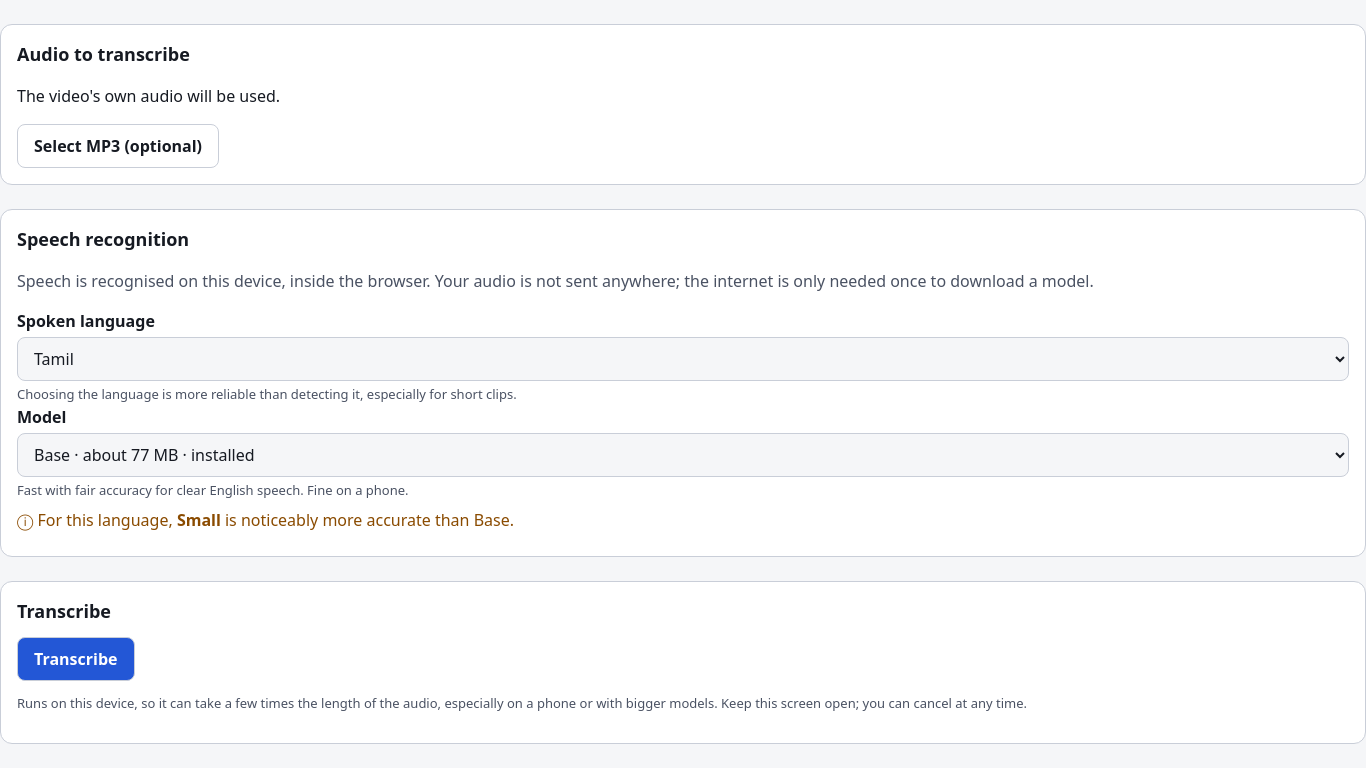
Test case: Speech workflow › shows why a transcription failed and keeps the choices
Select "English" in the dropdown labelled "Spoken language" at (683, 359), box [17,337,1349,381]
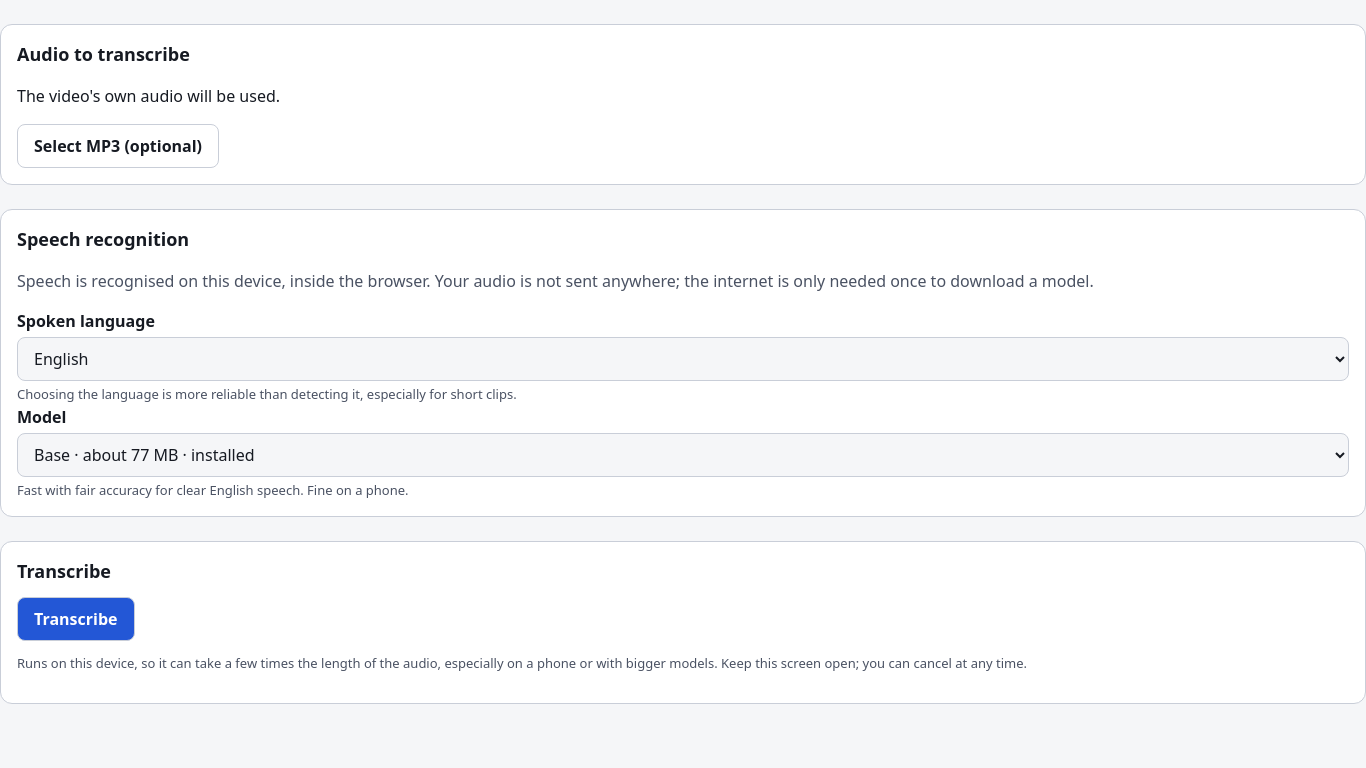
Click the button "Transcribe" at (76, 619), box [17,597,134,641]
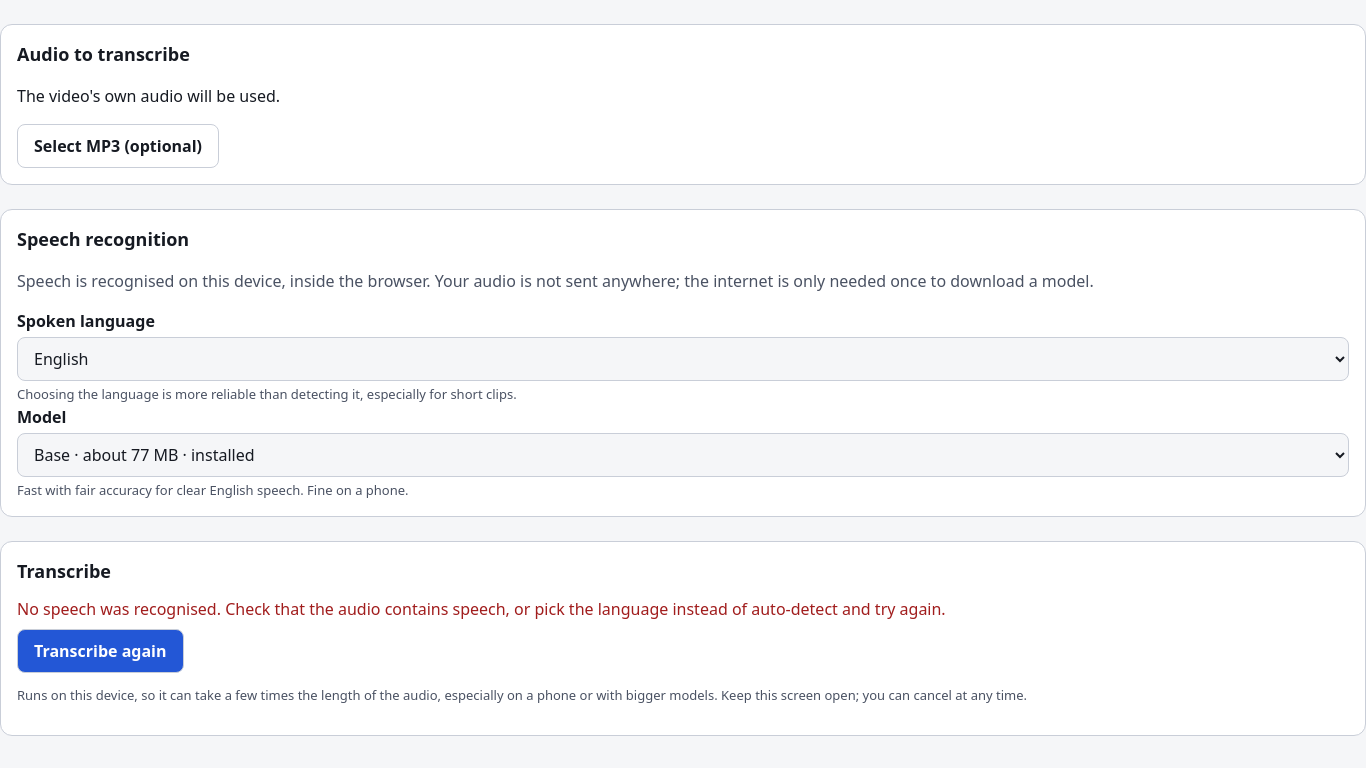
Expected: the button "Transcribe again" is enabled, [17,629,184,673]
Expected: the text "No speech was recognised" is shown, [17,598,946,620]
